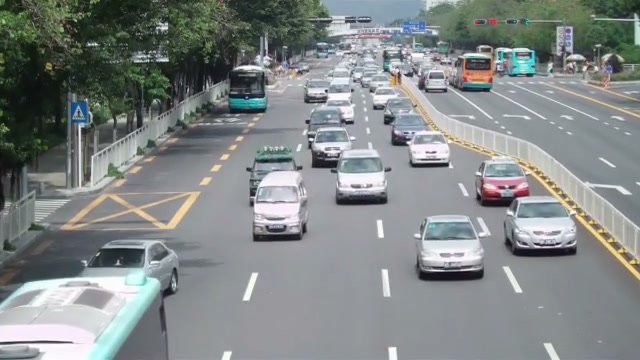bus: (228, 65, 267, 112), (453, 52, 494, 91), (495, 48, 536, 77)
car: (0, 274, 170, 357), (79, 239, 180, 297), (413, 214, 489, 280), (503, 195, 578, 256), (252, 171, 310, 241), (333, 148, 391, 205), (474, 159, 531, 206), (311, 127, 354, 167), (408, 131, 451, 168), (390, 113, 429, 146), (382, 97, 414, 126), (372, 86, 402, 110), (303, 78, 330, 103)
